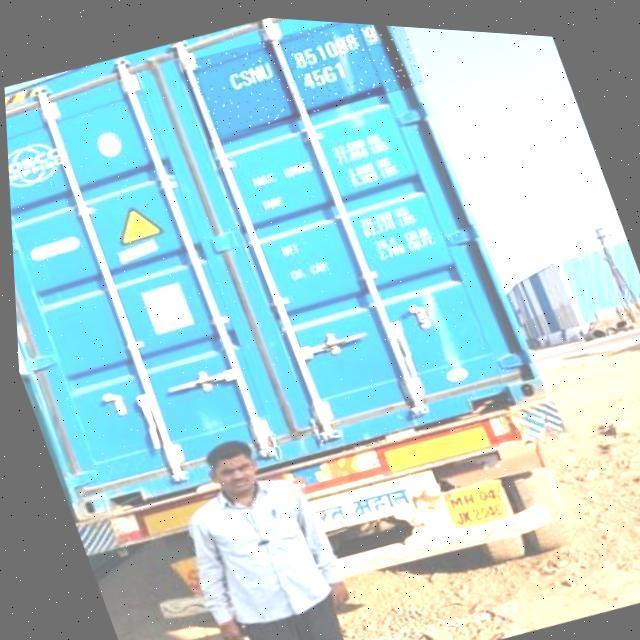container_number_h: (178, 9, 427, 148)
